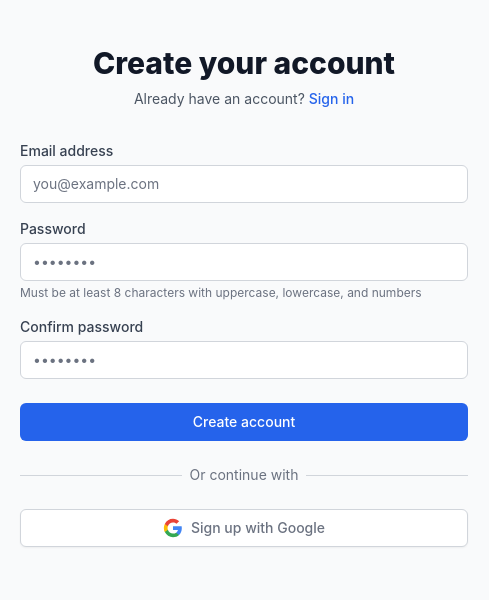
Test: RegisterForm › shows validation error for weak password
Type "test@example.com" into the field labelled "Email address" at (244, 184), box x1=20 y1=165 x2=468 y2=203
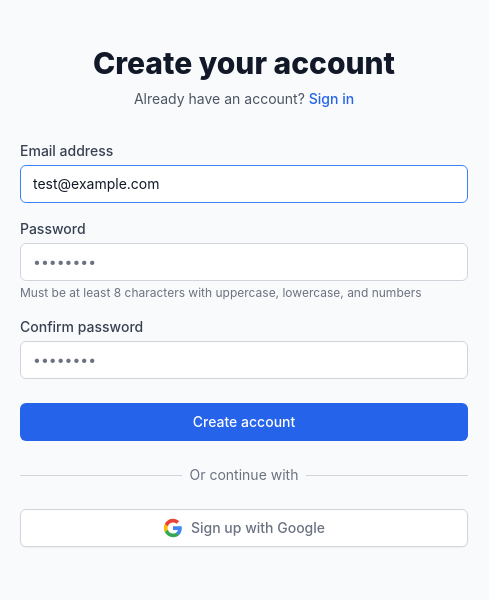
Type "weak" into the password field labelled "Password" at (244, 262), box x1=20 y1=243 x2=468 y2=281
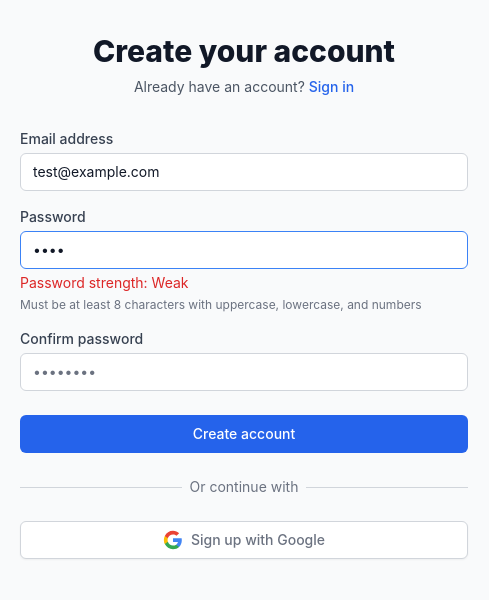
Click the button "Create account" at (244, 434), box x1=20 y1=415 x2=468 y2=453
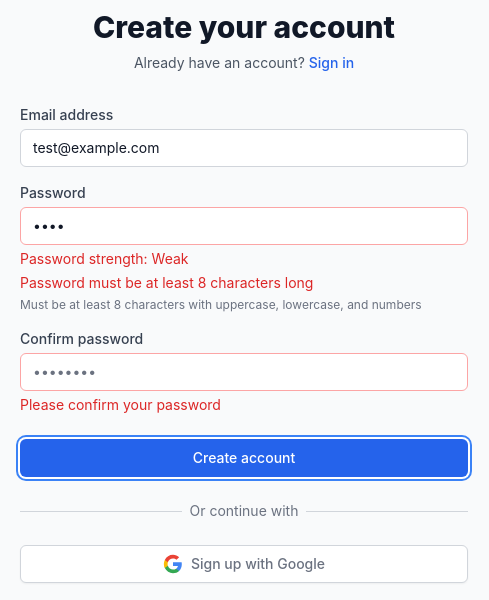
Check: the text "Password must be at least 8 characters long" is shown, box x1=20 y1=274 x2=313 y2=291
